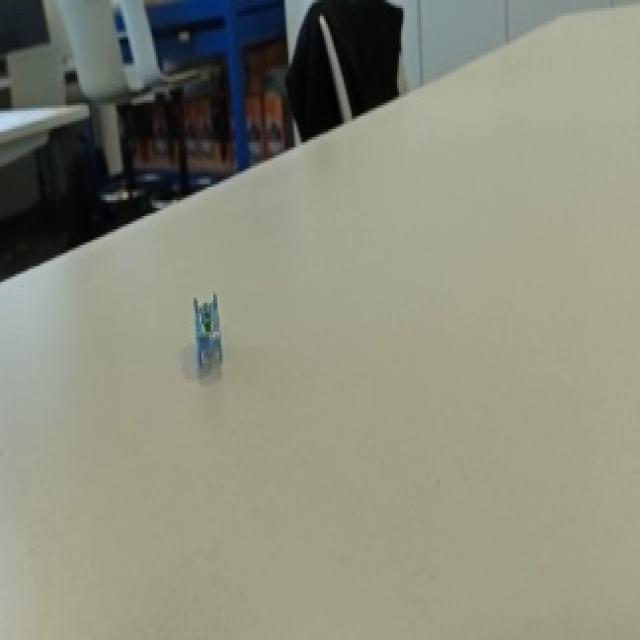3_NanoBug_Celeste: (174, 273, 248, 393)
